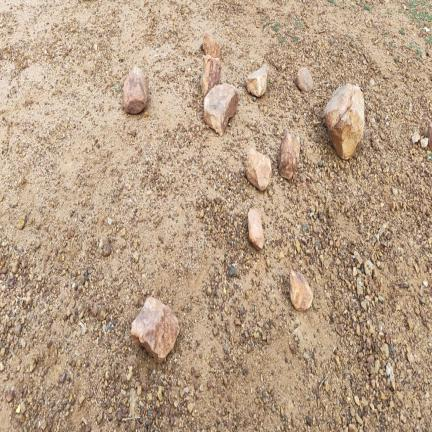Rocks: (131, 297, 179, 362), (325, 84, 364, 159), (204, 84, 238, 135), (124, 67, 148, 113), (246, 149, 271, 191), (279, 133, 300, 179), (290, 270, 312, 311), (201, 56, 221, 95), (246, 65, 268, 97), (248, 209, 264, 250), (203, 33, 220, 57), (297, 67, 313, 92), (386, 362, 395, 390), (103, 239, 111, 256), (364, 260, 373, 275), (11, 323, 21, 336), (412, 131, 420, 144), (6, 390, 14, 402), (18, 217, 25, 230), (428, 126, 431, 150), (421, 138, 428, 148)
